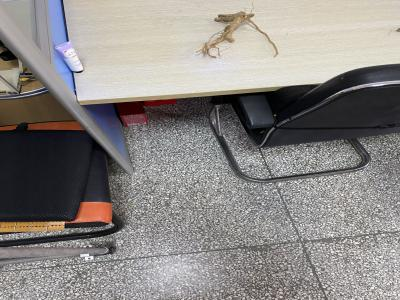Root: (196, 11, 278, 58)
